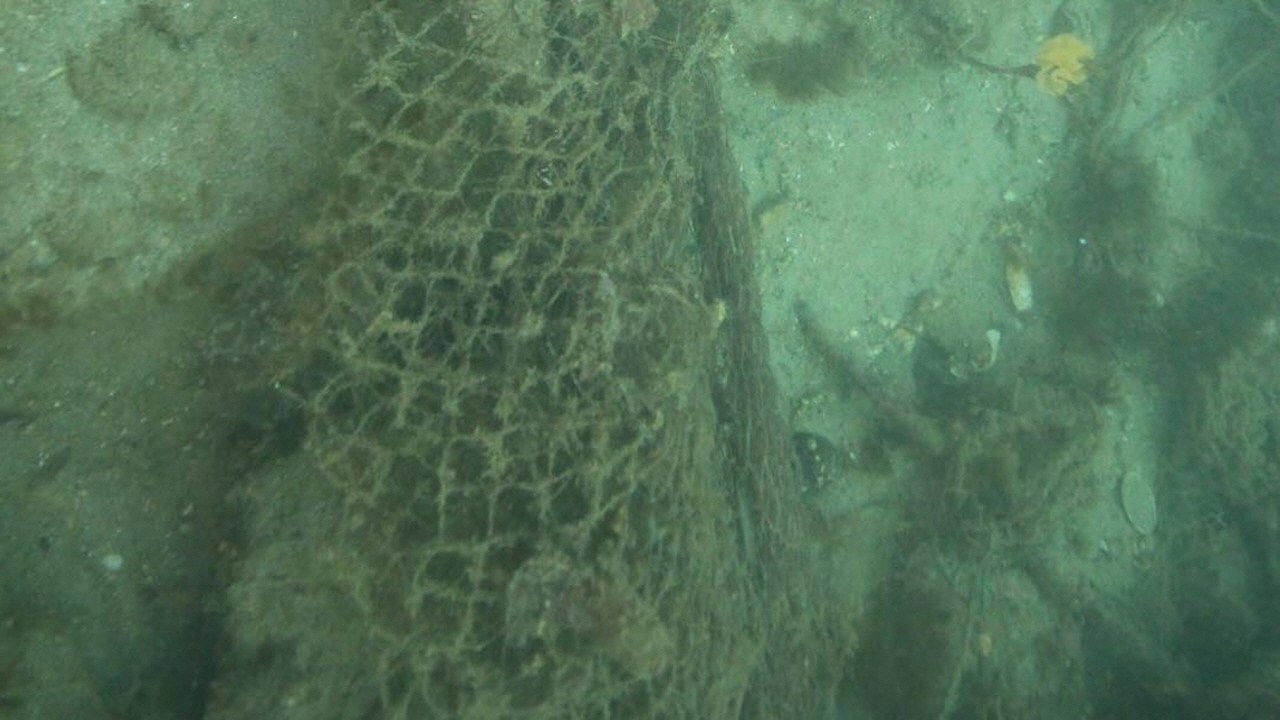fish net: (275, 4, 817, 720)
